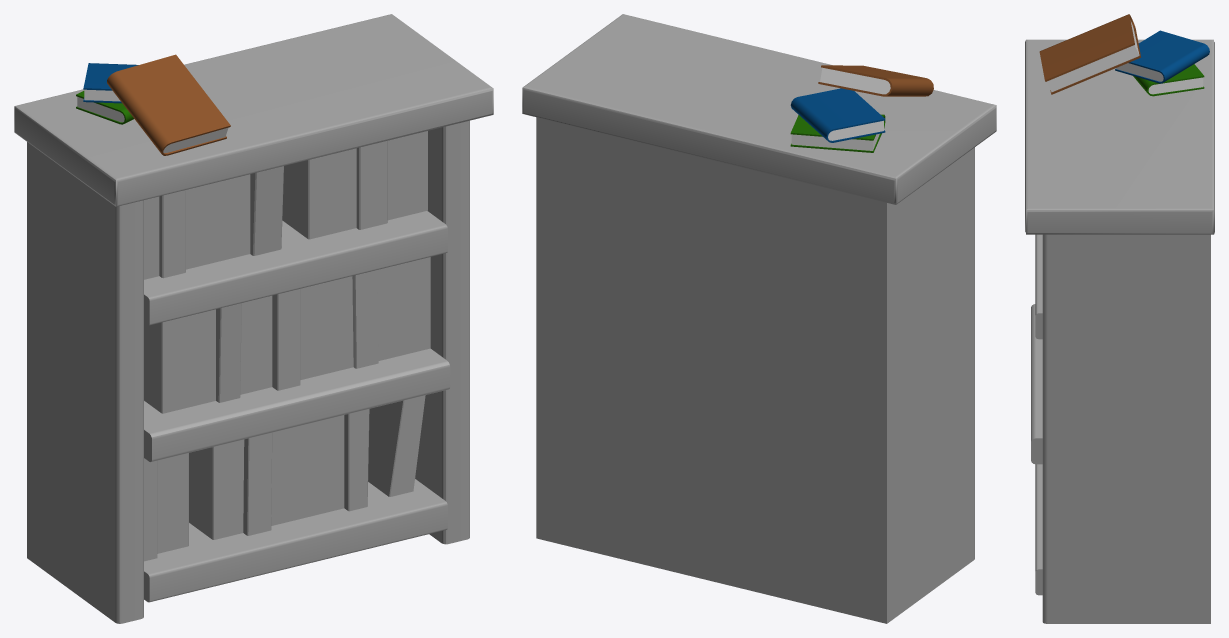
File: Bookcase_1.fbx
3 views of the same model, side by side, from view 1: azimuth 30°, elevation 25°; view 2: azimuth 150°, elevation 25°; view 3: azimuth 270°, elevation 25° (orthographic). The views are drawn at different scales.
Parts seen in each view (by area): view 1: Bookcase_1; view 2: Bookcase_1; view 3: Bookcase_1.
Part boxes in pixels (x1,y1,x2,y2): Bookcase_1: (14, 14, 493, 623); Bookcase_1: (522, 14, 996, 623); Bookcase_1: (1025, 14, 1214, 623).
Bounding box in the file's own units: 0.0626 × 0.0801 × 0.0293.
